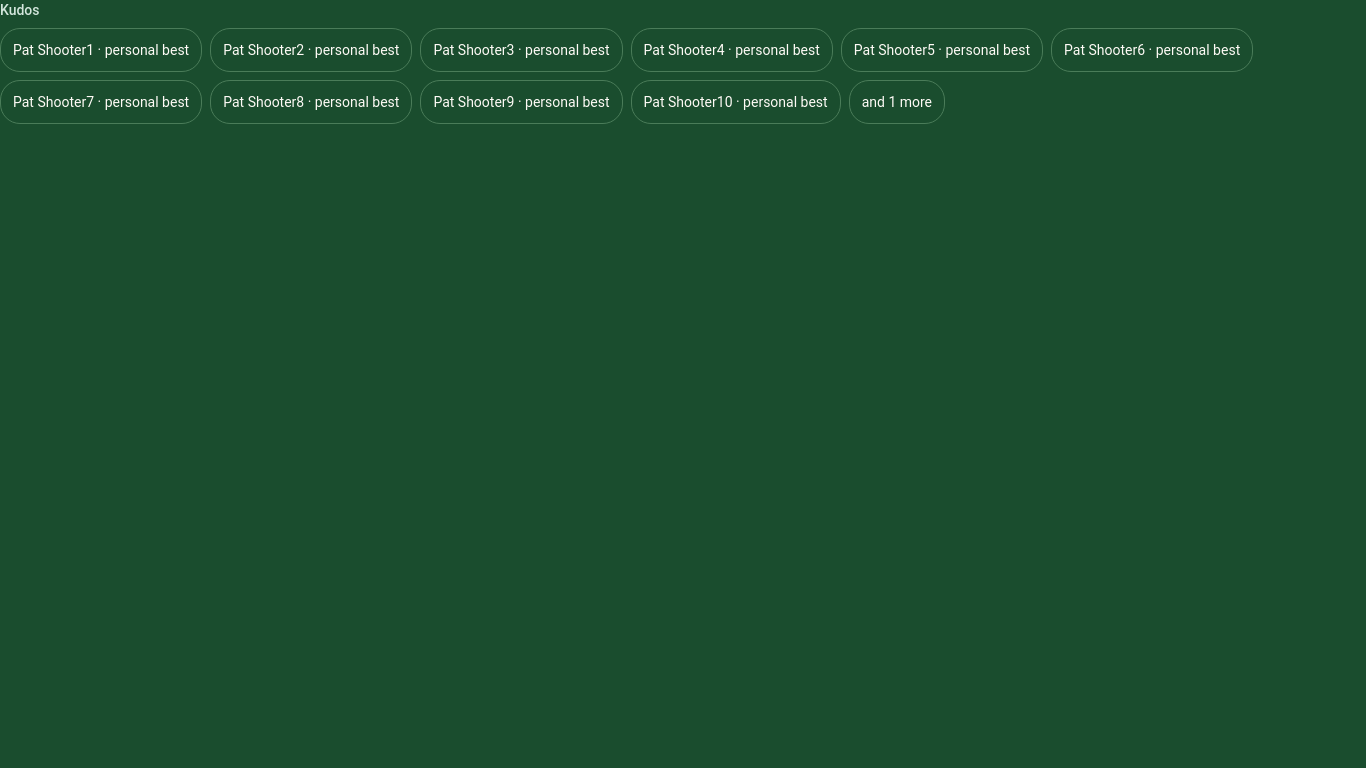
Test: KudosStrip › shows the viewer their own kudos in the second person
The width and height of the screenshot is (1366, 768).
Step 1. Click the button "and 1 more" → (897, 102), box [849, 80, 945, 124]
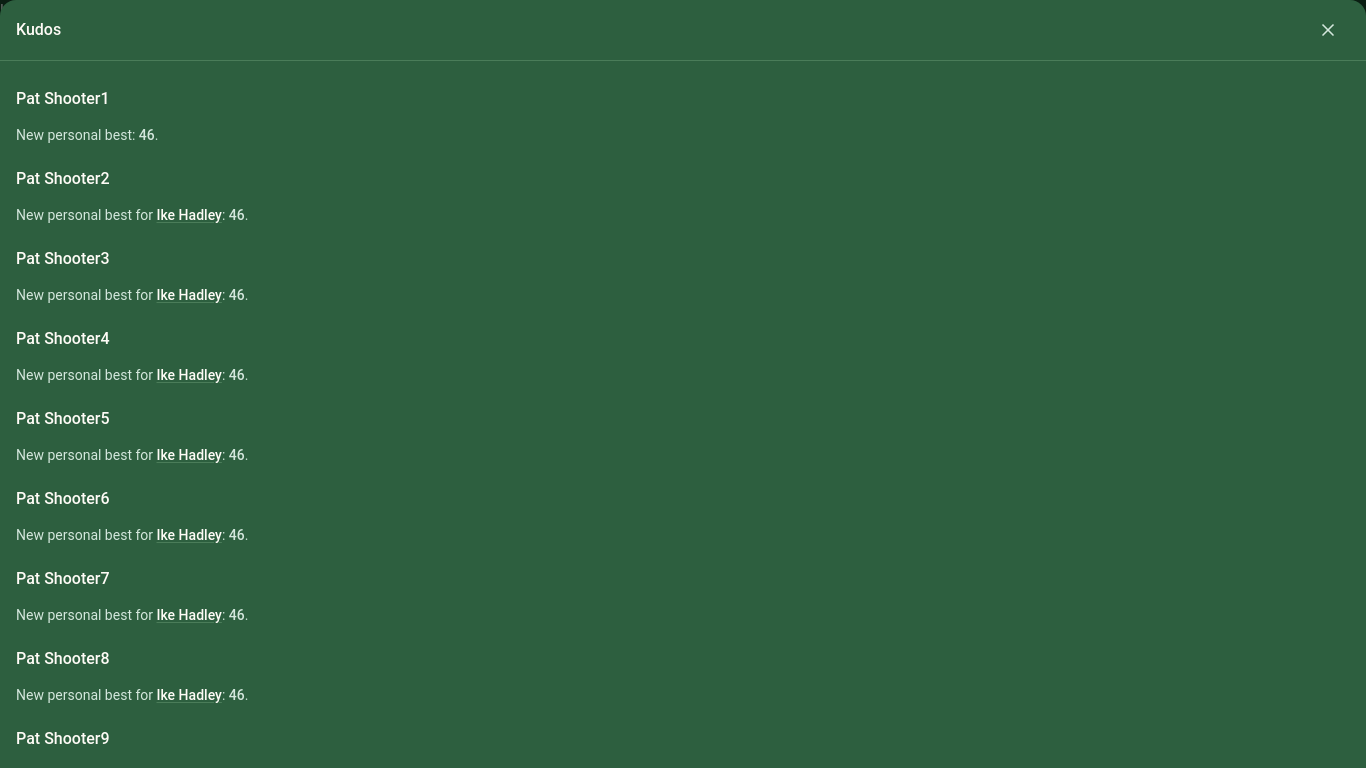
Expected: the text "New personal best:" is shown once, [16, 127, 139, 143]
